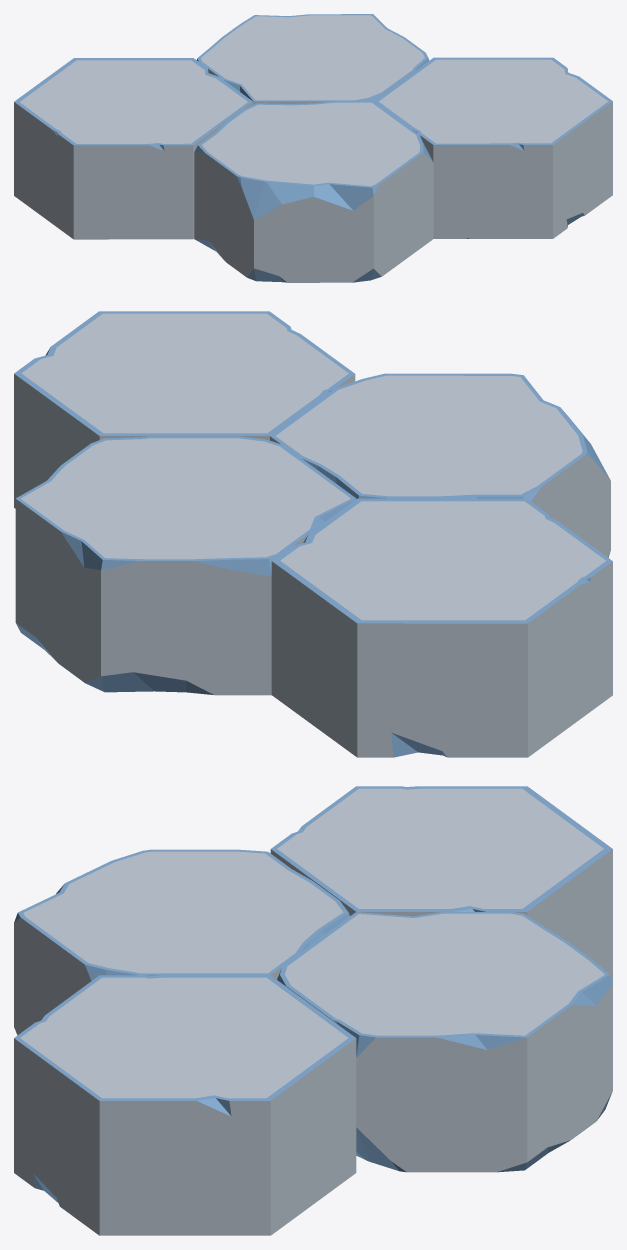
Rendered from hex_formed.fbx.
The picture shows the model from 3 angles, top to bottom: view 1: azimuth 30°, elevation 25°; view 2: azimuth 150°, elevation 25°; view 3: azimuth 270°, elevation 25°; orthographic projection. The views are drawn at different scales.
Parts seen in each view (by area): view 1: Cylinder.152, Cylinder.153, Cylinder.148, Cylinder.154; view 2: Cylinder.153, Cylinder.154, Cylinder.148, Cylinder.152; view 3: Cylinder.148, Cylinder.154, Cylinder.153, Cylinder.152.
Boxes of the visible parts, bbox=[...] form: Cylinder.152: bbox=[194, 101, 433, 282]; Cylinder.153: bbox=[14, 58, 253, 239]; Cylinder.148: bbox=[374, 57, 612, 238]; Cylinder.154: bbox=[197, 14, 429, 104]; Cylinder.153: bbox=[271, 498, 612, 757]; Cylinder.154: bbox=[15, 436, 355, 695]; Cylinder.148: bbox=[14, 311, 355, 508]; Cylinder.152: bbox=[270, 373, 610, 557]; Cylinder.148: bbox=[14, 975, 356, 1235]; Cylinder.154: bbox=[277, 912, 612, 1172]; Cylinder.153: bbox=[270, 786, 612, 982]; Cylinder.152: bbox=[14, 849, 349, 1035].
Size of the model in its own units: 250 by 50 by 201.
